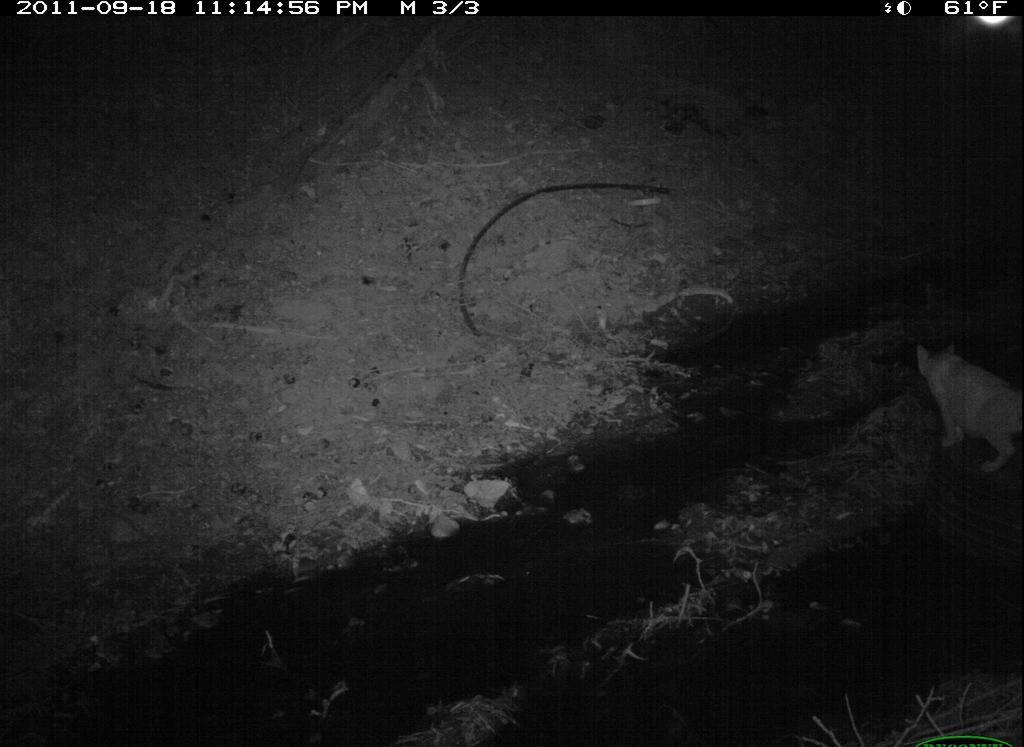cat: (913, 332, 1022, 487)
